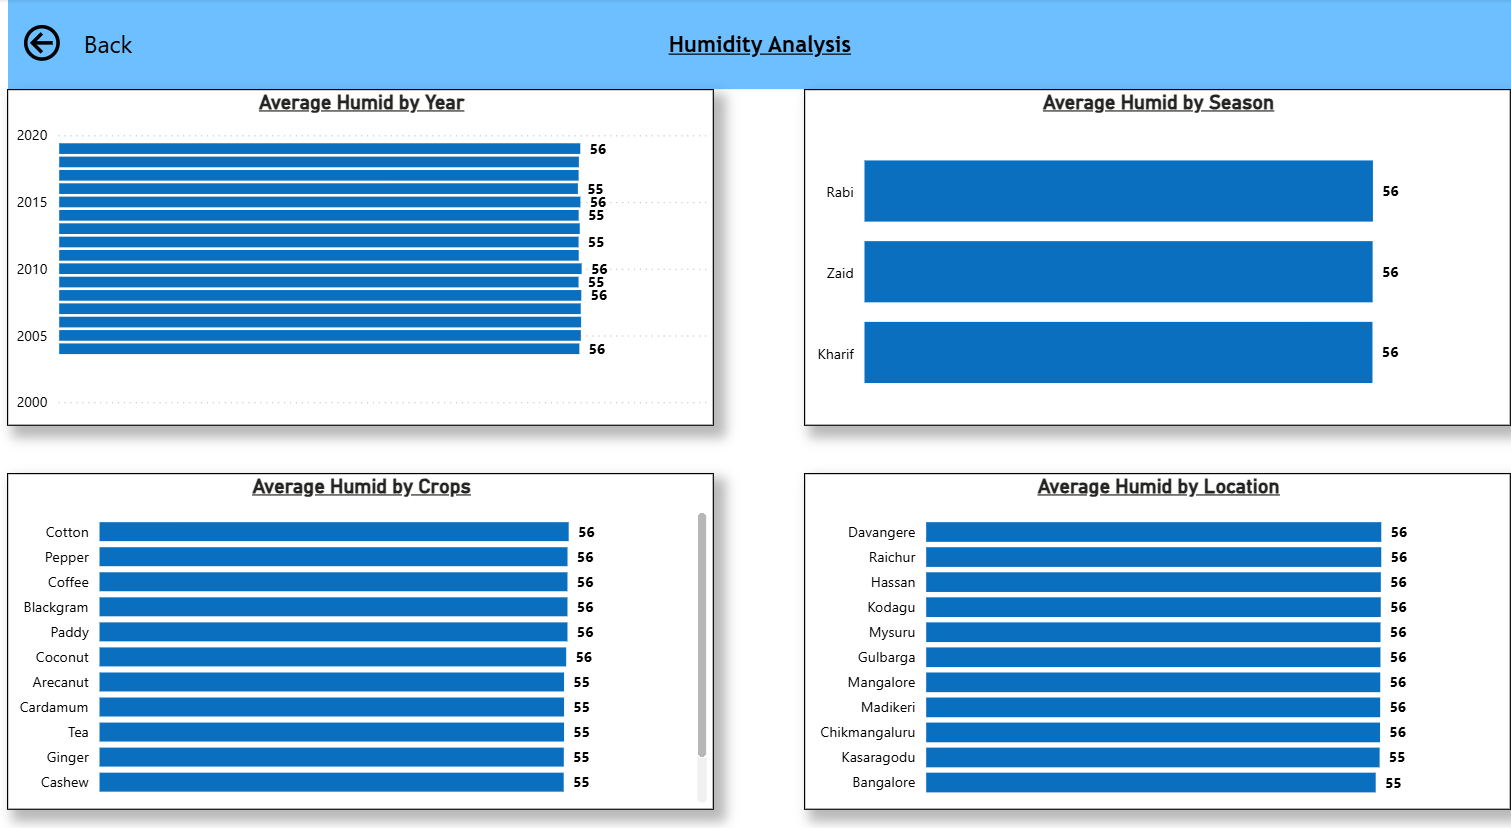

The page's visual inventory and layout, read from the dashboard file:
{"tool":"powerbi","page":{"name":"Humidity Analysis","canvas":[1280,720],"ordinal":2},"visuals":[{"type":"shape","box":[12.3,0,1267.7,76],"z":0},{"type":"barChart","title":"Average Humid by Year","fields":{"Category":["AGRICULTURE.YEAR"],"Y":["Avg(AGRICULTURE.HUMIDITY)"]},"box":[12,76,596,284],"z":1000},{"type":"barChart","title":"Average Humid by Season","fields":{"Category":["AGRICULTURE.SEASON"],"Y":["Avg(AGRICULTURE.HUMIDITY)"]},"box":[684,76,596,284],"z":2000},{"type":"barChart","title":"Average Humid by Location","fields":{"Category":["AGRICULTURE.LOCATION"],"Y":["Avg(AGRICULTURE.HUMIDITY)"]},"box":[684,400,596,284],"z":3000},{"type":"barChart","title":"Average Humid by Crops","fields":{"Category":["AGRICULTURE.CROPS"],"Y":["Avg(AGRICULTURE.HUMIDITY)"]},"box":[12,400,596,284],"z":4000}]}

Visuals, with their boxes in screenshot pixels (x1, y1, x2, y2), scaled from the page's 1280x720 canvas onto the 1511x828 screenshot:
shape: <region>15, 0, 1510, 87</region>
"Average Humid by Year" barChart: <region>14, 87, 718, 414</region>
"Average Humid by Season" barChart: <region>807, 87, 1510, 414</region>
"Average Humid by Location" barChart: <region>807, 460, 1510, 787</region>
"Average Humid by Crops" barChart: <region>14, 460, 718, 787</region>
